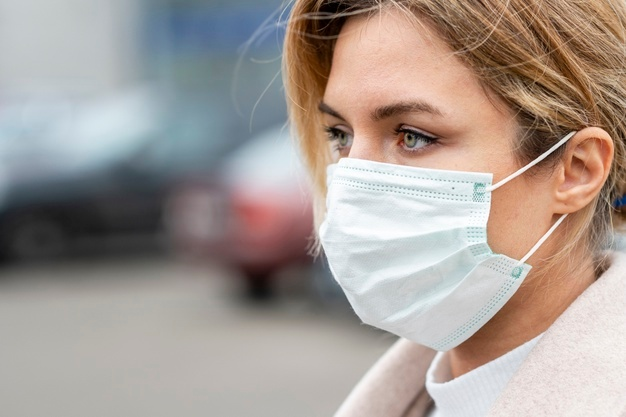surgical: (311, 156, 538, 358)
